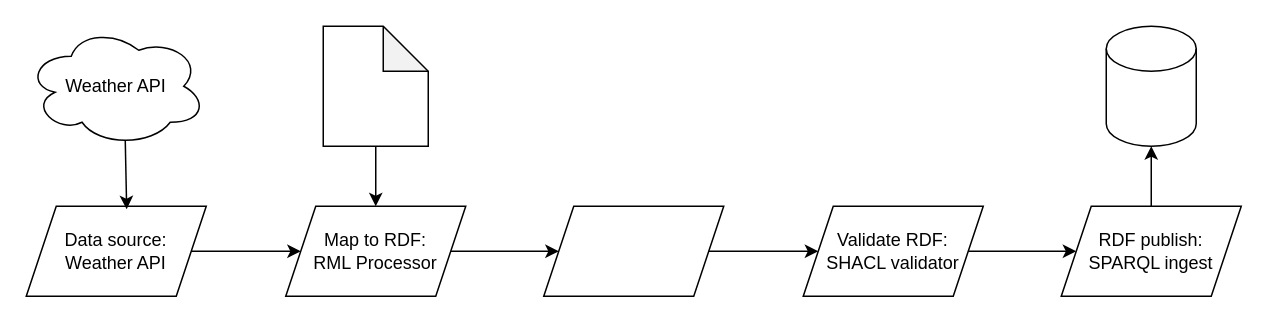
Some shapes in this 1268 by 323 pixel diagram are drawn without their labels. Each missing label, with the centre of its shape:
"RDF Transform: ML translator" belongs at (x=633, y=250).
"RML Mapping file" belongs at (x=375, y=85).
"SPARQL" belongs at (x=1150, y=85).
